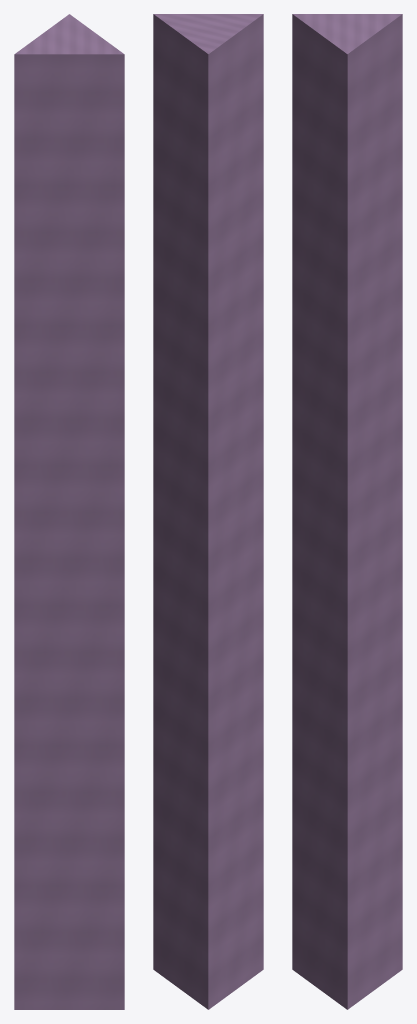
File: atlas100-s089-a05.lod2.glb
The picture shows the model from 3 angles, left to right: view 1: azimuth 90°, elevation 25°; view 2: azimuth 150°, elevation 25°; view 3: azimuth 270°, elevation 25°; orthographic projection.
Parts seen in each view (by area): view 1: atlas100-s089-a05:part-000; view 2: atlas100-s089-a05:part-000; view 3: atlas100-s089-a05:part-000.
Part boxes in pixels (<box>): atlas100-s089-a05:part-000: <box>14,14,124,1009</box>; atlas100-s089-a05:part-000: <box>153,14,263,1009</box>; atlas100-s089-a05:part-000: <box>292,14,402,1009</box>.
Size of the model in its own units: 0.0573 by 0.6334 by 0.0662.
Materials: 1 (1 with a texture image).
